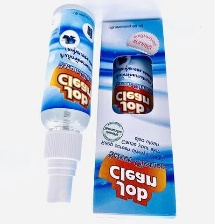book: (88, 13, 179, 221)
cleaning_solution: (37, 1, 97, 206)
